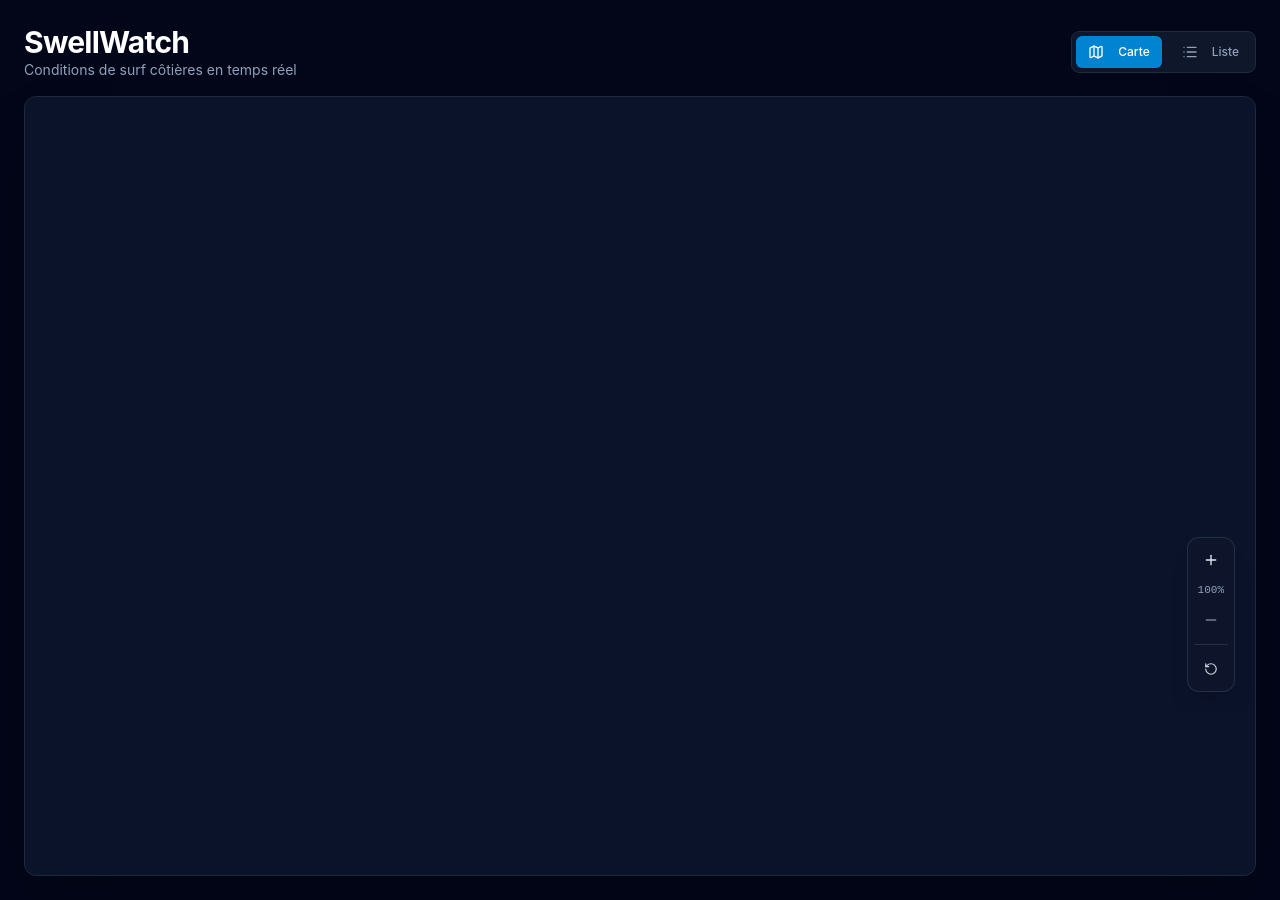
Test: App component › renders spots list with forecast metrics in list view
Expected: the heading "SwellWatch" is shown, [24,24,189,60]
Click the button "Liste".
click(1210, 52)  # box [1170,36,1251,68]
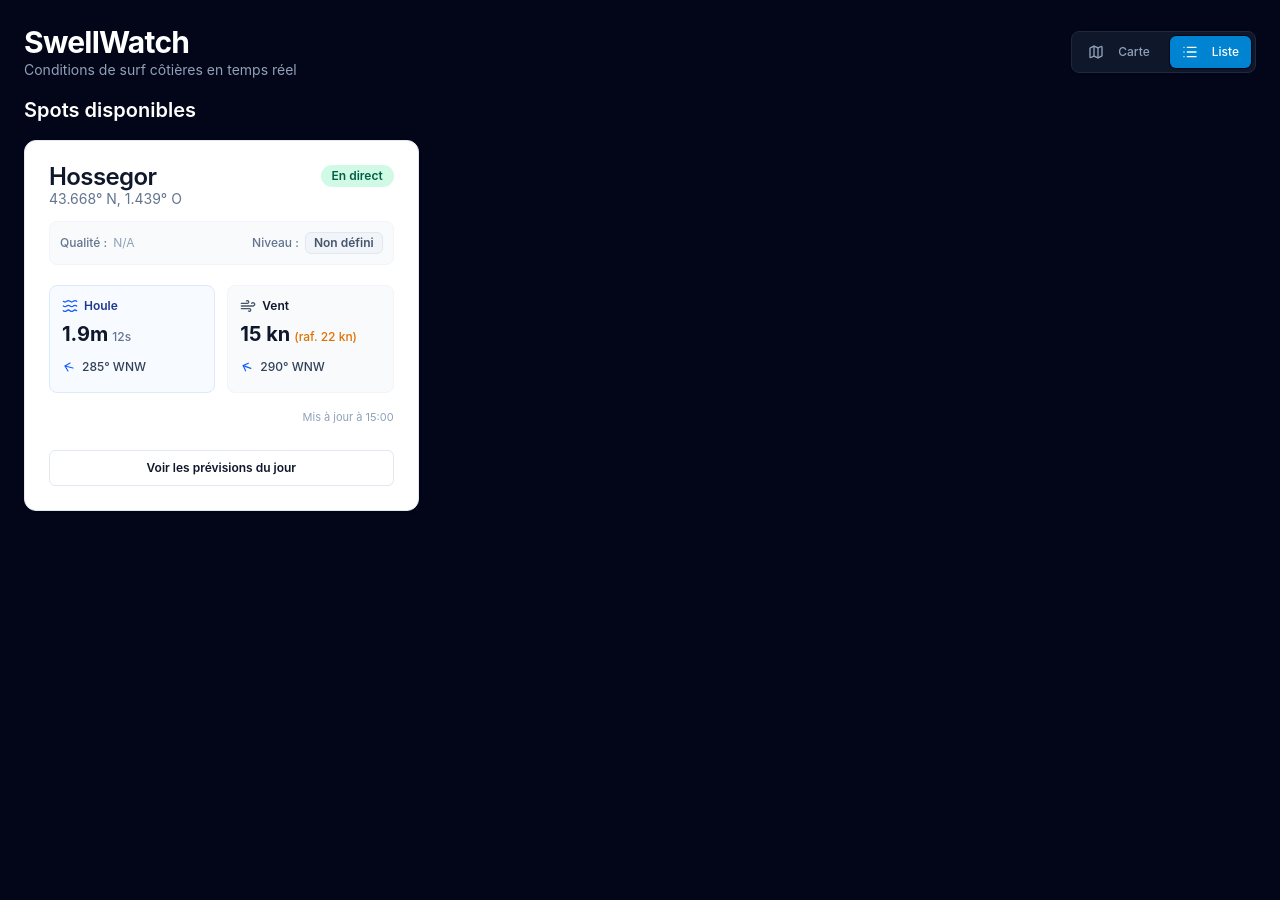
Now the heading "Hossegor" is shown, box [49,162,156,191]
Now the text "1.9m" is shown, box [62,320,108,348]
Now the text "12s" is shown, box [112,329,131,345]
